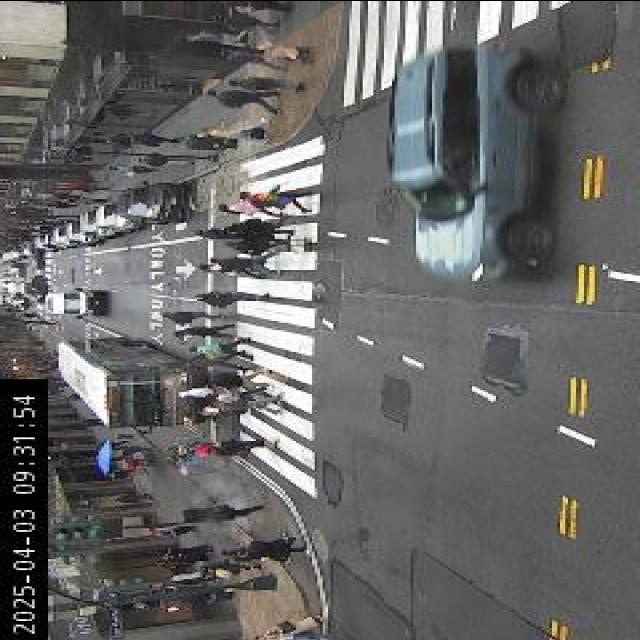parkedCars: (22, 177, 204, 253)
